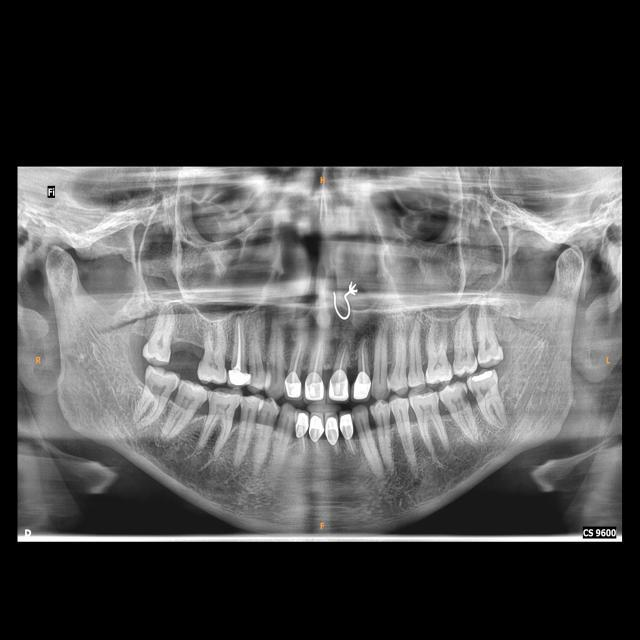dentin-curugu: (462, 388, 468, 406)
dolgu: (470, 371, 495, 388)
kanal-tedavisi: (285, 334, 306, 375), (233, 316, 246, 372), (310, 337, 325, 378), (334, 338, 348, 379), (357, 336, 370, 377), (343, 436, 359, 459), (298, 438, 308, 456)
kaplama: (328, 371, 350, 402), (304, 372, 325, 401), (226, 368, 253, 389), (286, 371, 302, 404), (353, 372, 371, 400), (307, 415, 325, 442), (337, 412, 354, 440), (325, 418, 340, 447), (294, 414, 310, 438)
